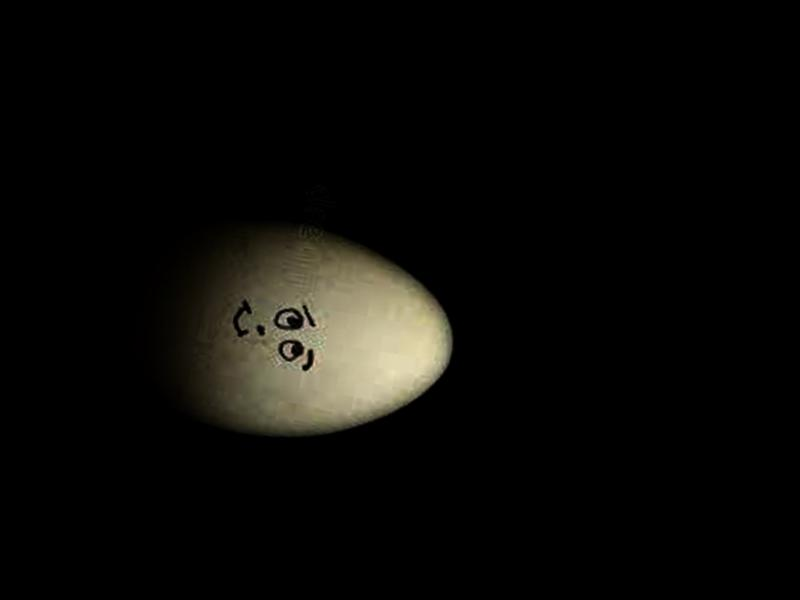Eggs: (118, 200, 470, 464)
